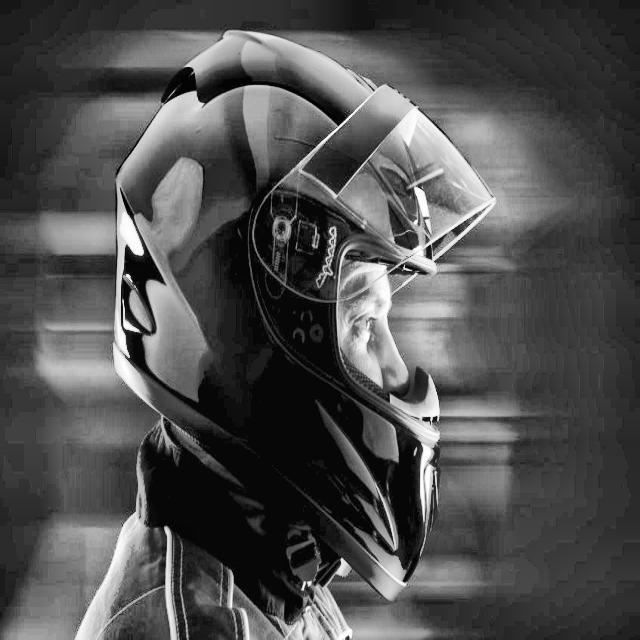Helmet: (97, 22, 509, 603)
